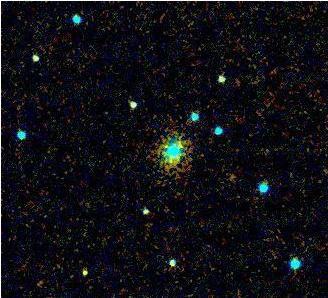star: (67, 259, 97, 289)
